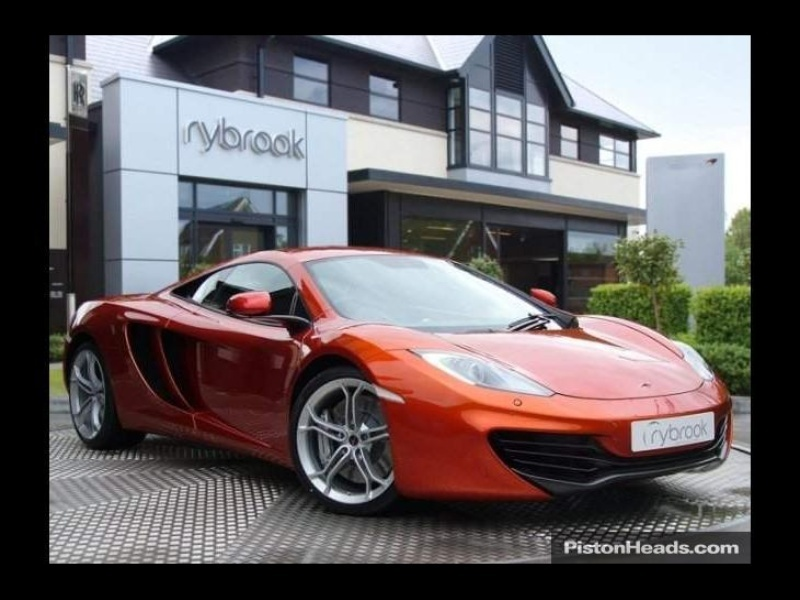normalcar: (56, 244, 744, 513)
